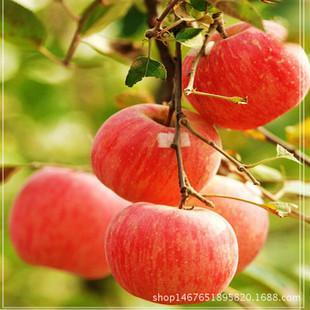apple: (181, 22, 310, 131), (90, 101, 222, 207), (106, 202, 240, 305), (7, 168, 122, 277)
